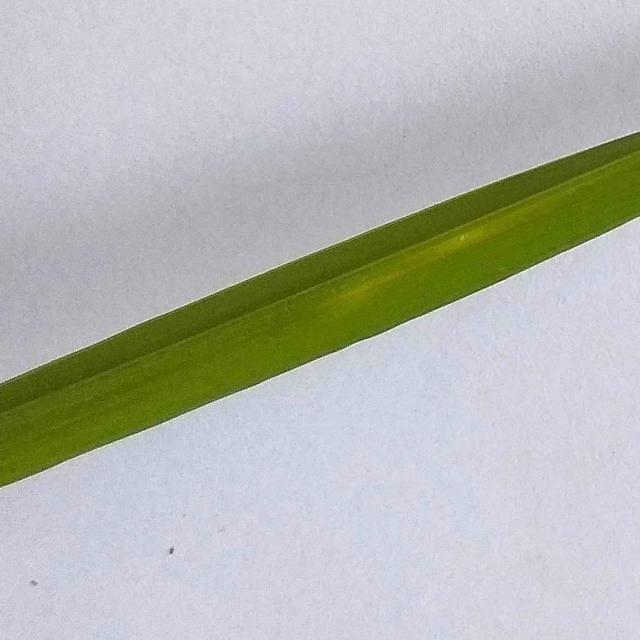healthy: (0, 132, 640, 498)
